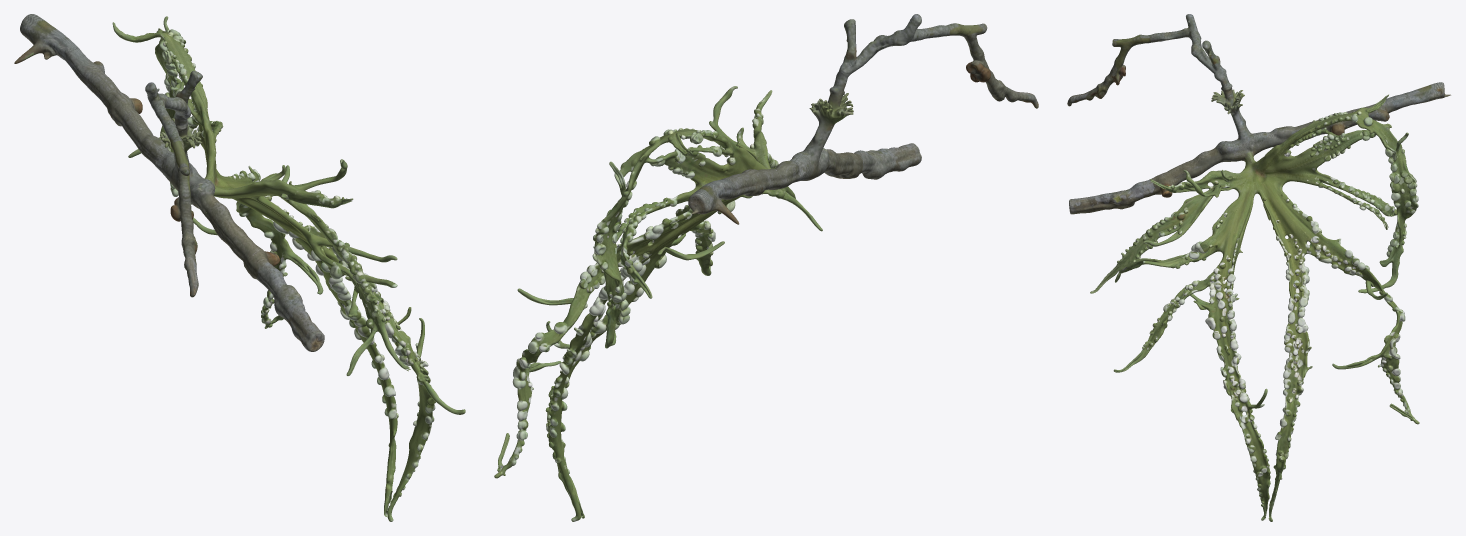
The model's file is liquen 14.glb.
3 views of the same model, side by side, from view 1: azimuth 30°, elevation 25°; view 2: azimuth 150°, elevation 25°; view 3: azimuth 270°, elevation 25° (orthographic). The views are drawn at different scales.
Visible parts, largest first — view 1: tripo_node_c76ade1c; view 2: tripo_node_c76ade1c; view 3: tripo_node_c76ade1c.
Part boxes in pixels (x1=…): tripo_node_c76ade1c: x1=14, y1=14, x2=465, y2=521; tripo_node_c76ade1c: x1=494, y1=14, x2=1038, y2=521; tripo_node_c76ade1c: x1=1067, y1=14, x2=1450, y2=521.
Size of the model in its own units: 0.6918 by 0.9803 by 0.8478.
1 material, 1 textured.
